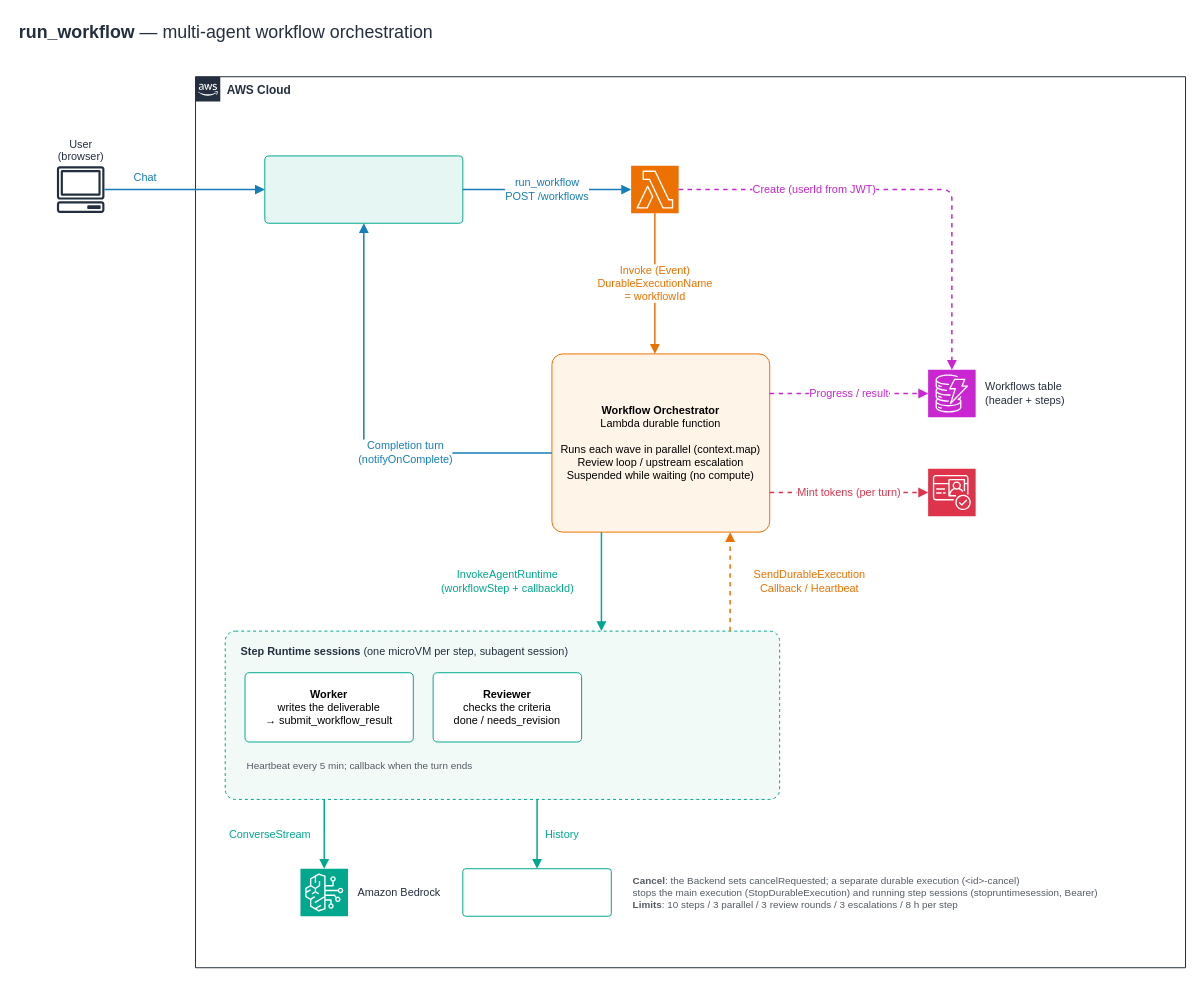
This 1203x985 diagram has some shape labels left out. The shapes that lost their labels are listed below. From the top down, each one's centre as x and y in pixels, then its label:
pixel 363 189: Parent agent AgentCore Runtime (user session)
pixel 654 189: Backend API /workflows
pixel 951 492: Cognito (machine user / developer-auth)
pixel 536 892: AgentCore Memory (conversation history)
